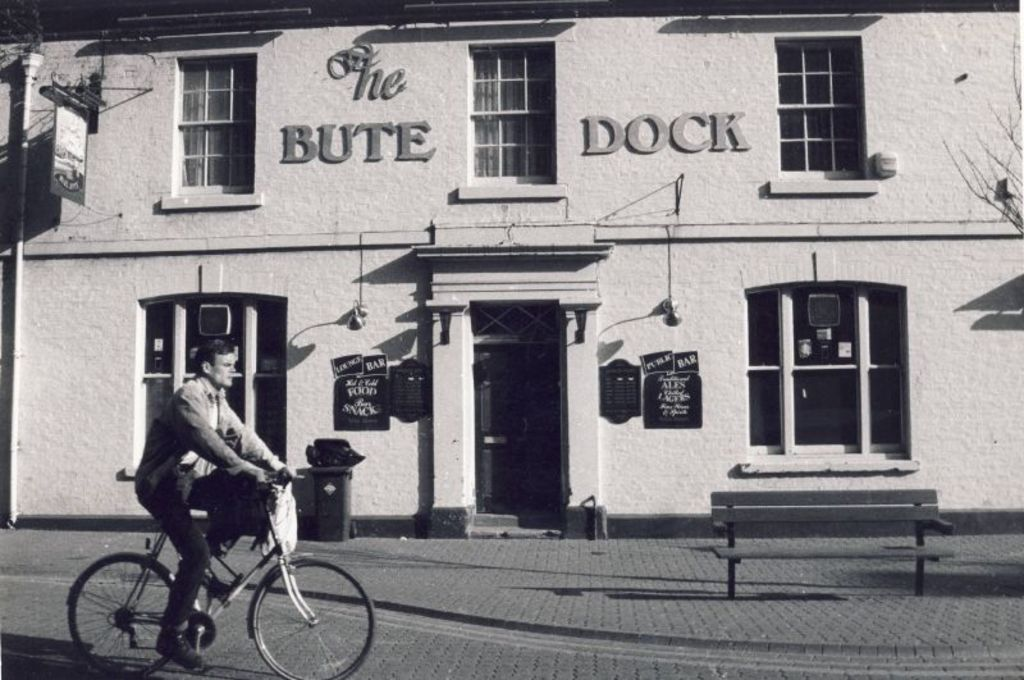Bike_toward: (67, 466, 376, 678)
